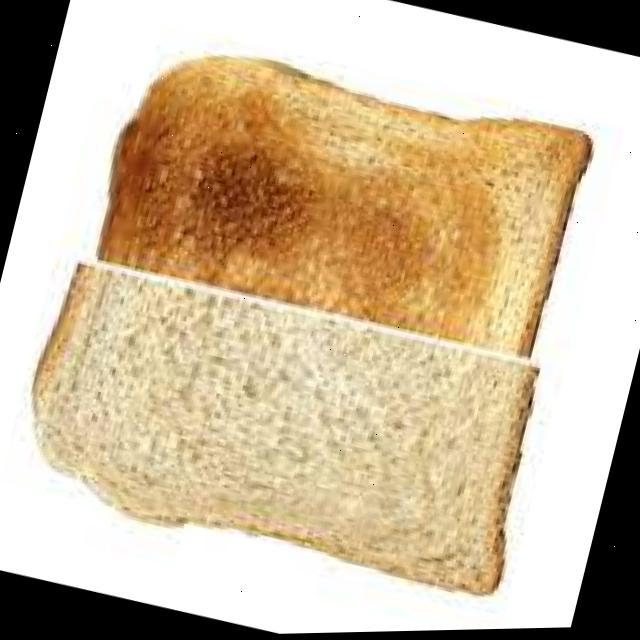Bread: (34, 57, 587, 591), (33, 264, 531, 594), (99, 58, 588, 355)
